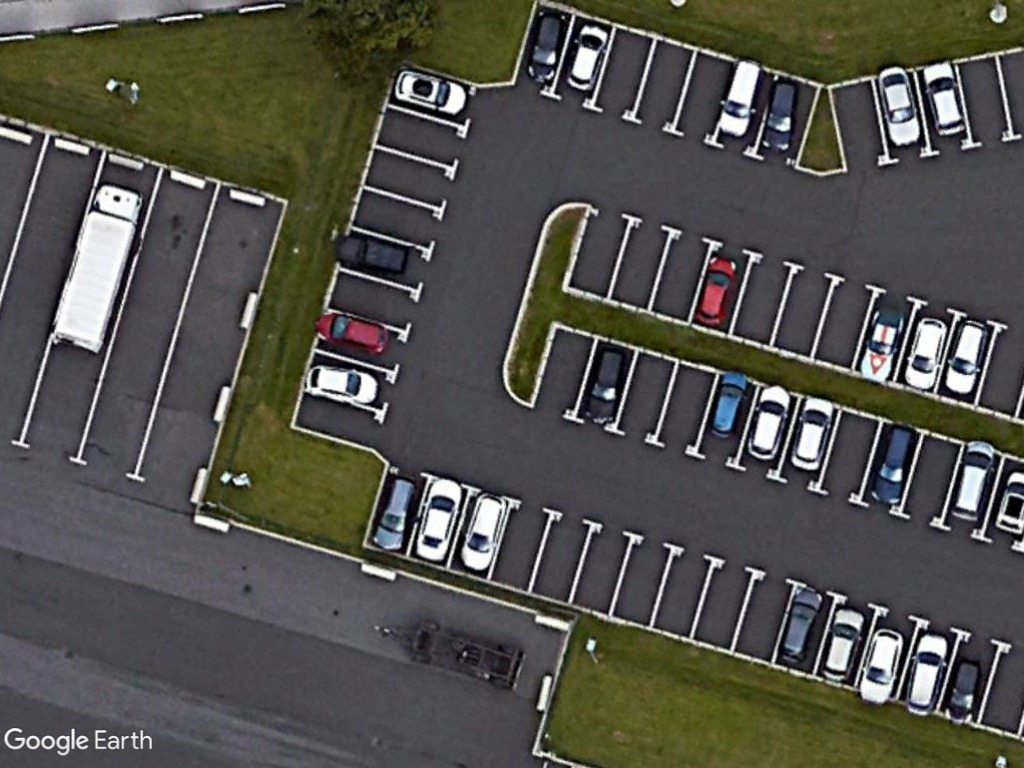car: (944, 437, 1002, 528), (899, 630, 954, 720), (412, 475, 465, 568), (864, 420, 919, 509), (454, 488, 510, 575), (366, 472, 424, 554), (577, 343, 633, 425), (714, 56, 766, 141), (785, 393, 839, 474), (940, 315, 992, 399), (310, 306, 392, 359), (854, 309, 908, 386), (743, 381, 793, 464), (876, 61, 923, 149), (900, 313, 951, 393), (774, 584, 825, 664), (817, 604, 866, 685), (392, 65, 468, 117), (561, 18, 613, 94), (856, 624, 904, 706), (331, 230, 410, 279), (302, 361, 382, 409), (918, 57, 966, 136), (523, 8, 569, 85), (757, 75, 800, 157), (691, 255, 739, 328), (704, 368, 751, 442), (942, 656, 986, 728)
truck: (48, 182, 147, 353)
